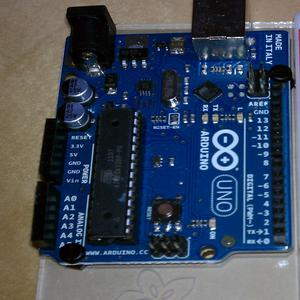duino: (38, 3, 293, 258)
